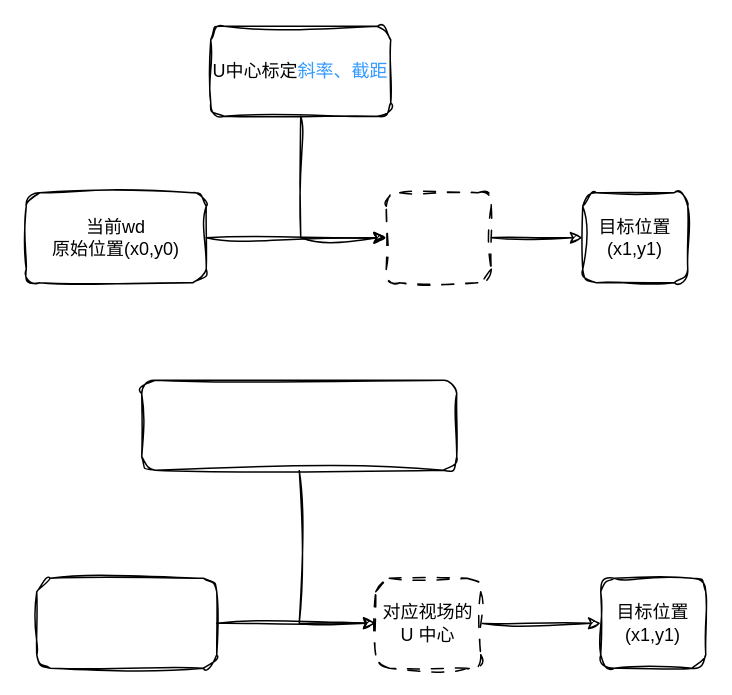
Image size: 732x695. Some labels were removed from this diagram. The box of each missing label's shape, as (x1, y1, x2, y2) in pixels:
U 中心: (385, 191, 491, 283)
大视场下 U中心标定 斜率、截距 组合模式 差值 (δx，δy): (140, 379, 457, 470)
当前wd 原始位置(x0,y0) 视场flag: (35, 577, 217, 668)
